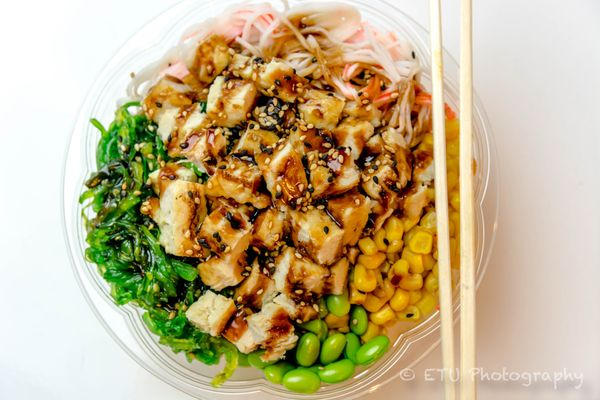curry: (84, 199, 198, 309)
sushi: (56, 1, 519, 389)
